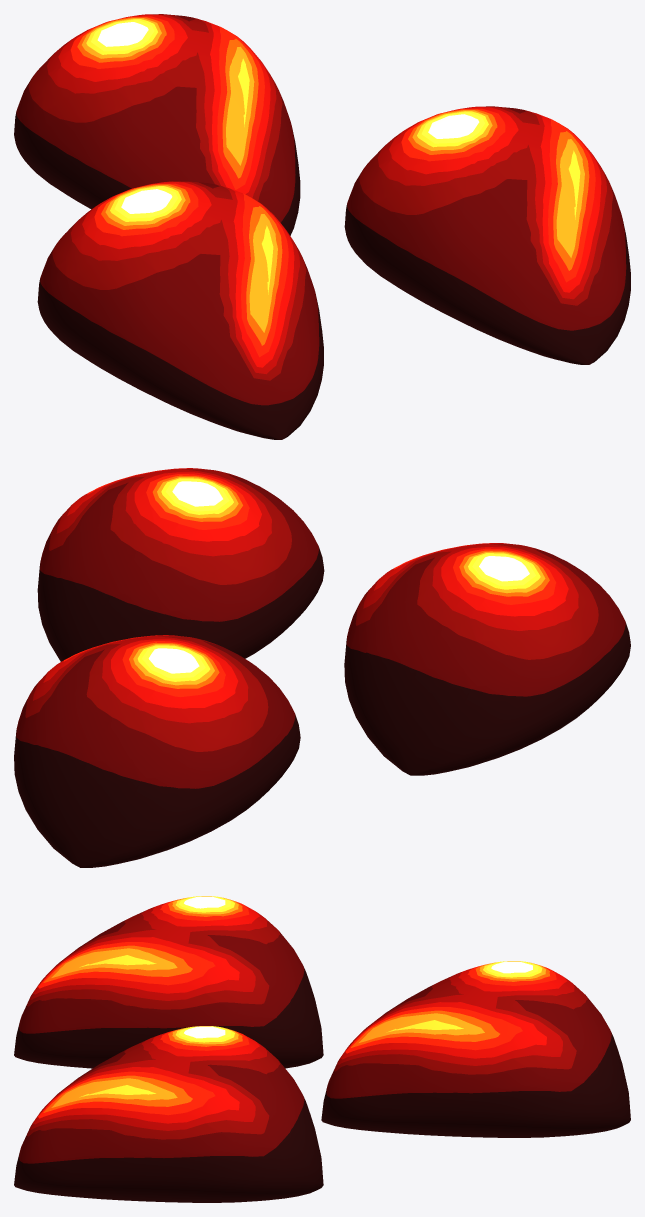
The model's file is drops_281.glb.
The picture shows the model from 3 angles, top to bottom: view 1: azimuth 30°, elevation 25°; view 2: azimuth 150°, elevation 25°; view 3: azimuth 270°, elevation 25°; orthographic projection. The views are drawn at different scales.
Visible parts, largest first — view 1: drops_281; view 2: drops_281; view 3: drops_281.
Part boxes in pixels (left/top/right/bottom): drops_281: left=14, top=14, right=630, bottom=439; drops_281: left=14, top=468, right=630, bottom=867; drops_281: left=14, top=896, right=630, bottom=1202.
Size of the model in its own units: 21.01 by 6.26 by 24.09.
